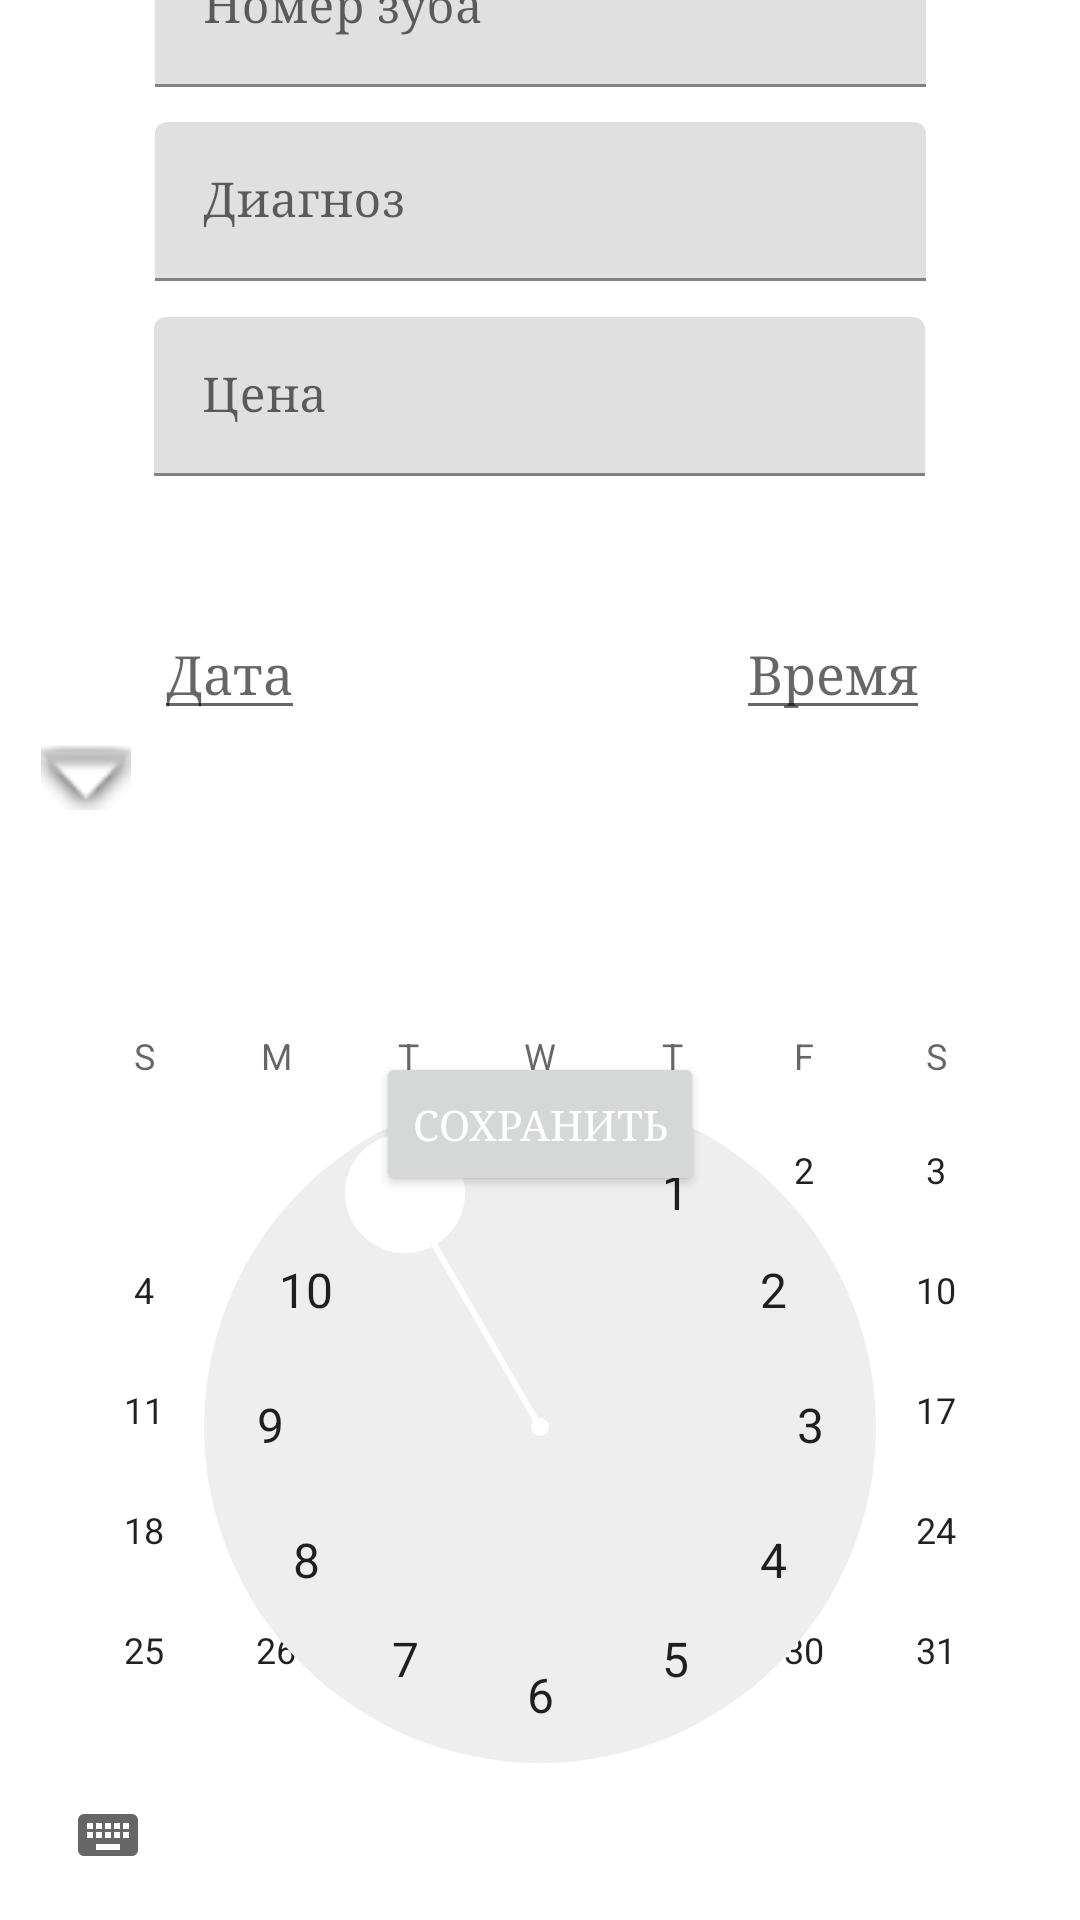

Icon bounding boxes for this 1080 x 1920 phone screenshot, format box(x1, y1, x2, y2):
arrow down float: box(41, 747, 131, 808)
